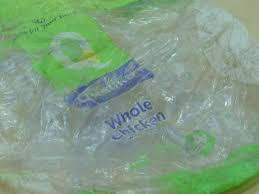Plastic: (0, 0, 258, 193)
